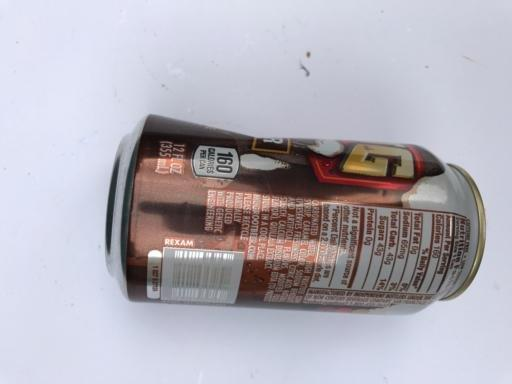kaleng: (105, 114, 486, 314)
